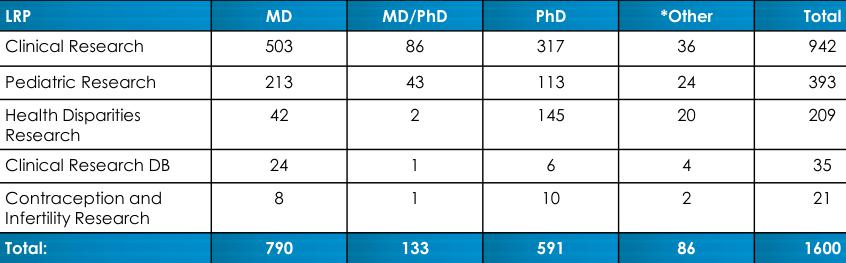table: (4, 3, 840, 257)
table column: (4, 3, 216, 257), (336, 3, 490, 257), (612, 3, 757, 257), (490, 3, 612, 257), (216, 3, 336, 257), (757, 3, 840, 257)
table column header: (4, 3, 840, 29)
table row: (4, 96, 840, 148), (4, 180, 840, 231), (4, 62, 840, 96), (4, 29, 840, 62), (4, 148, 840, 180), (4, 3, 840, 29), (4, 231, 840, 257)
